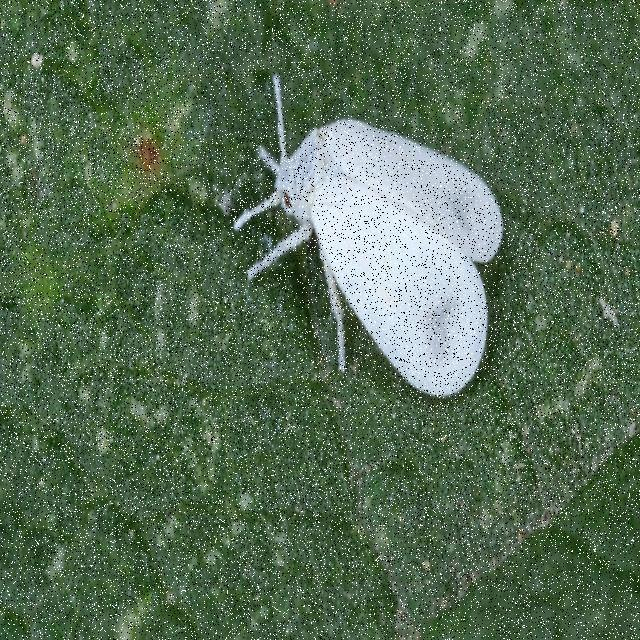Whiteflies: (179, 63, 545, 449)
